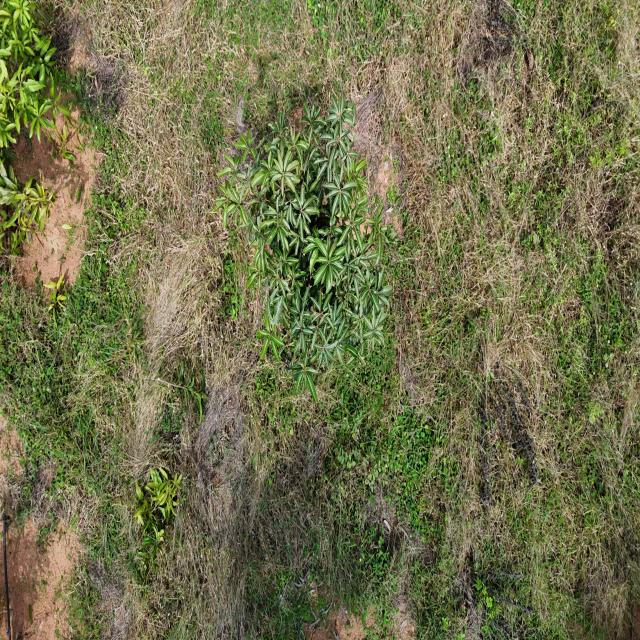mangoTree: (214, 89, 394, 412), (0, 0, 77, 253)
